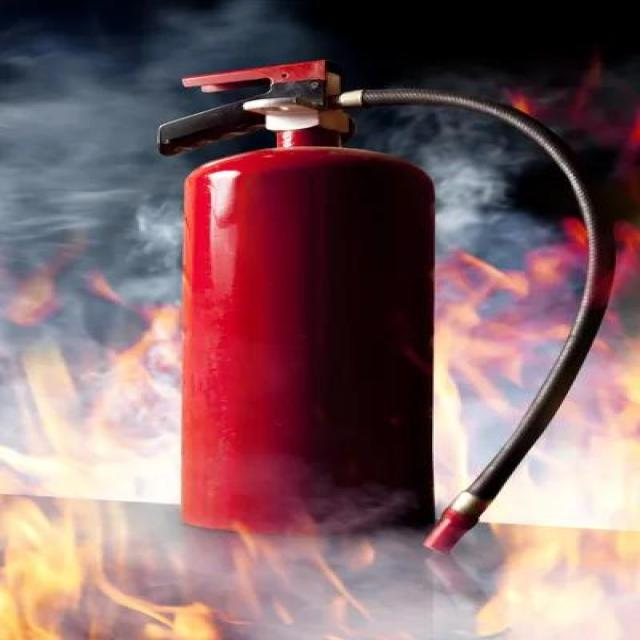fire_extinguisher: (146, 54, 625, 564)
